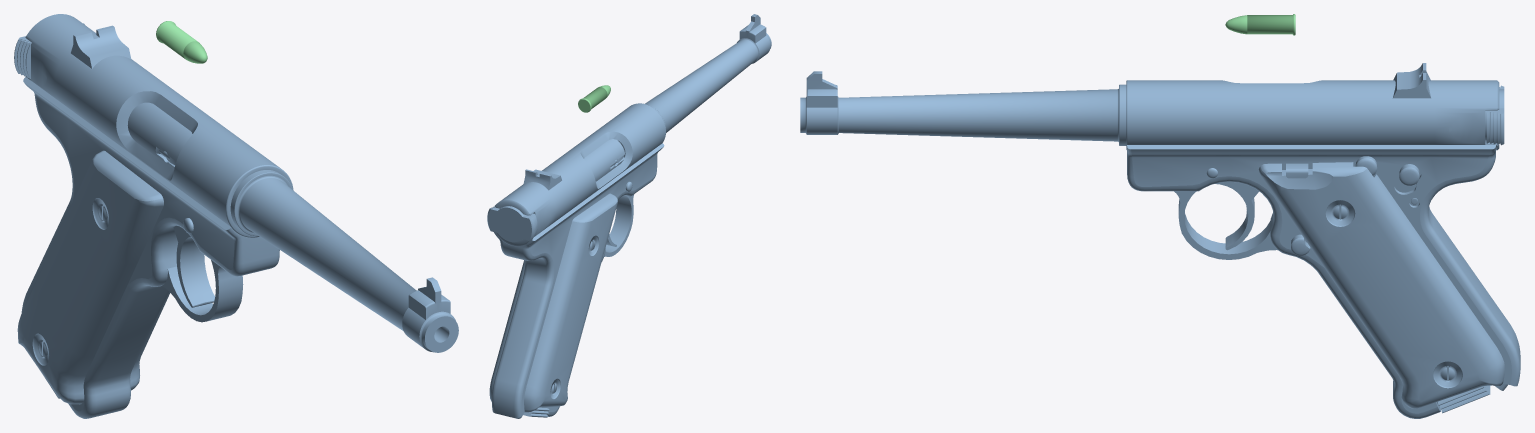
Rendered from WPN_Gruber.FBX.
The picture shows the model from 3 angles, left to right: view 1: azimuth 30°, elevation 25°; view 2: azimuth 150°, elevation 25°; view 3: azimuth 270°, elevation 25°; orthographic projection. The views are drawn at different scales.
Parts seen in each view (by area): view 1: WPN_Gruber, WPN_Gruber_barrel, WPN_Gruber_trigger, cal_22; view 2: WPN_Gruber, WPN_Gruber_barrel, cal_22; view 3: WPN_Gruber, cal_22, WPN_Gruber_trigger, WPN_Gruber_barrel, WPN_Gruber_magazine.
Boxes of the visible parts, x1,y1,x2,y2 form: WPN_Gruber: [17, 14, 458, 418]; WPN_Gruber_barrel: [14, 23, 192, 169]; WPN_Gruber_trigger: [173, 225, 214, 307]; cal_22: [156, 21, 207, 63]; WPN_Gruber: [489, 14, 771, 418]; WPN_Gruber_barrel: [487, 139, 624, 242]; cal_22: [578, 85, 610, 112]; WPN_Gruber: [800, 63, 1520, 418]; cal_22: [1225, 14, 1295, 35]; WPN_Gruber_trigger: [1215, 181, 1258, 250]; WPN_Gruber_barrel: [1485, 85, 1504, 145]; WPN_Gruber_magazine: [1437, 385, 1490, 413].
Size of the model in its own units: 3.01 by 15.78 by 25.97.
